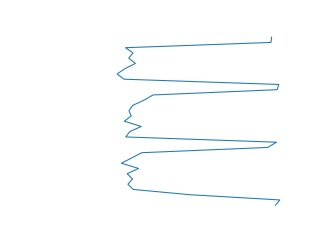majorRiverChannelBar: (115, 38, 284, 207)
